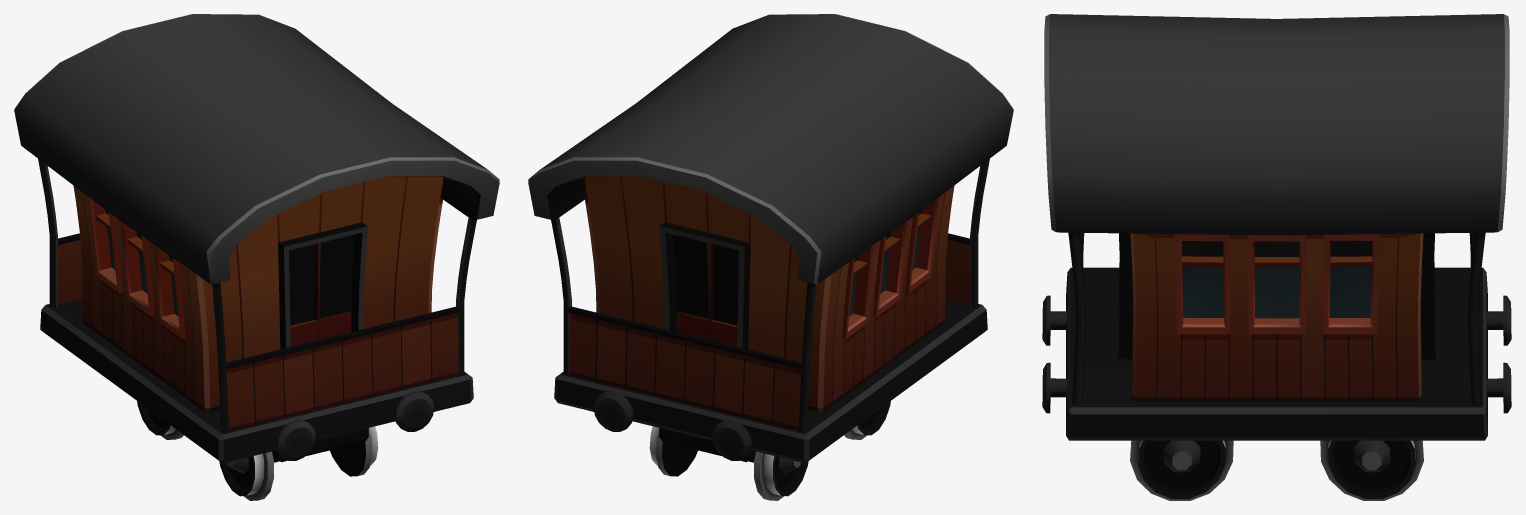
Rendered from train.fbx.
3 renders of one model, left to right at view 1: azimuth 30°, elevation 25°; view 2: azimuth 150°, elevation 25°; view 3: azimuth 270°, elevation 25°, orthographic. The views are drawn at different scales.
Visible parts, largest first — view 1: train; view 2: train; view 3: train.
Part boxes in pixels (x1,y1,x2,y2): train: (14,14,499,500); train: (528,14,1013,500); train: (1042,14,1511,500).
Bounding box in the file's own units: 2.74 × 3.22 × 3.26.
